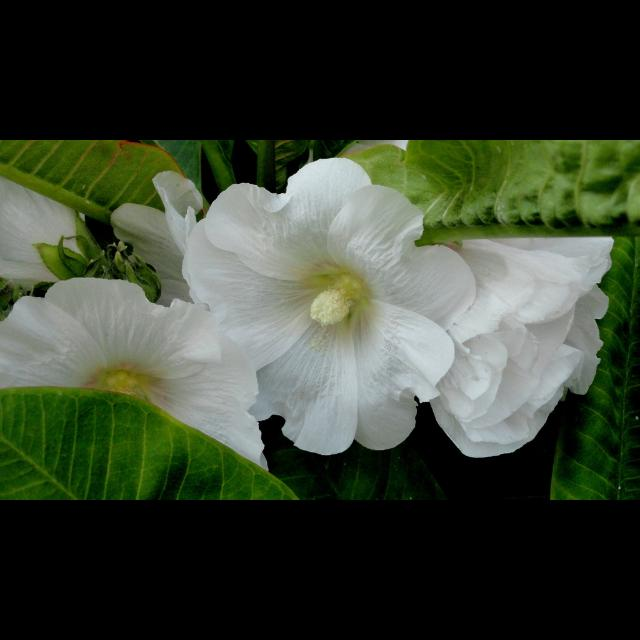Flower: (164, 170, 492, 456), (0, 277, 270, 471), (432, 238, 614, 462), (0, 178, 101, 288), (107, 200, 207, 304)
